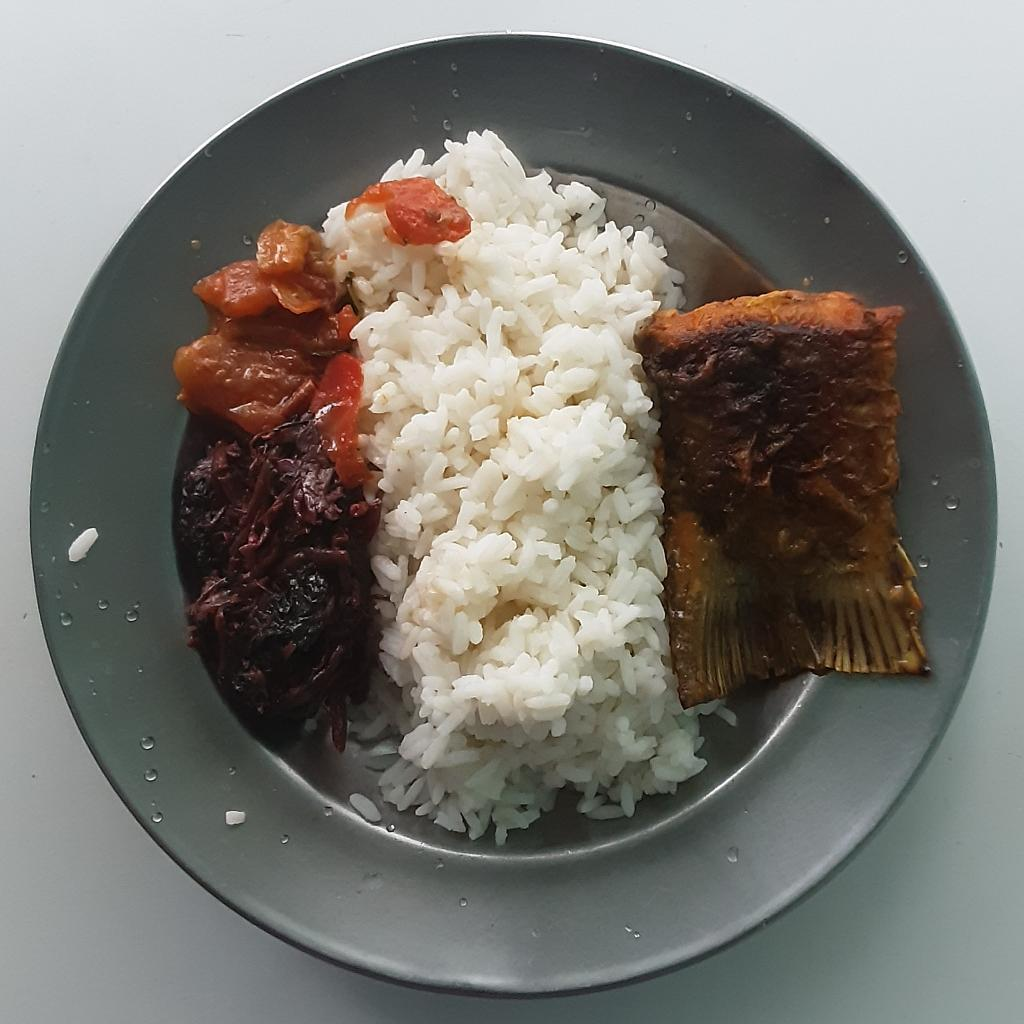fish: (634, 293, 939, 712)
lal-shak: (172, 426, 376, 718)
rice: (313, 133, 741, 849)
tomato: (169, 218, 370, 492), (347, 172, 469, 244)
